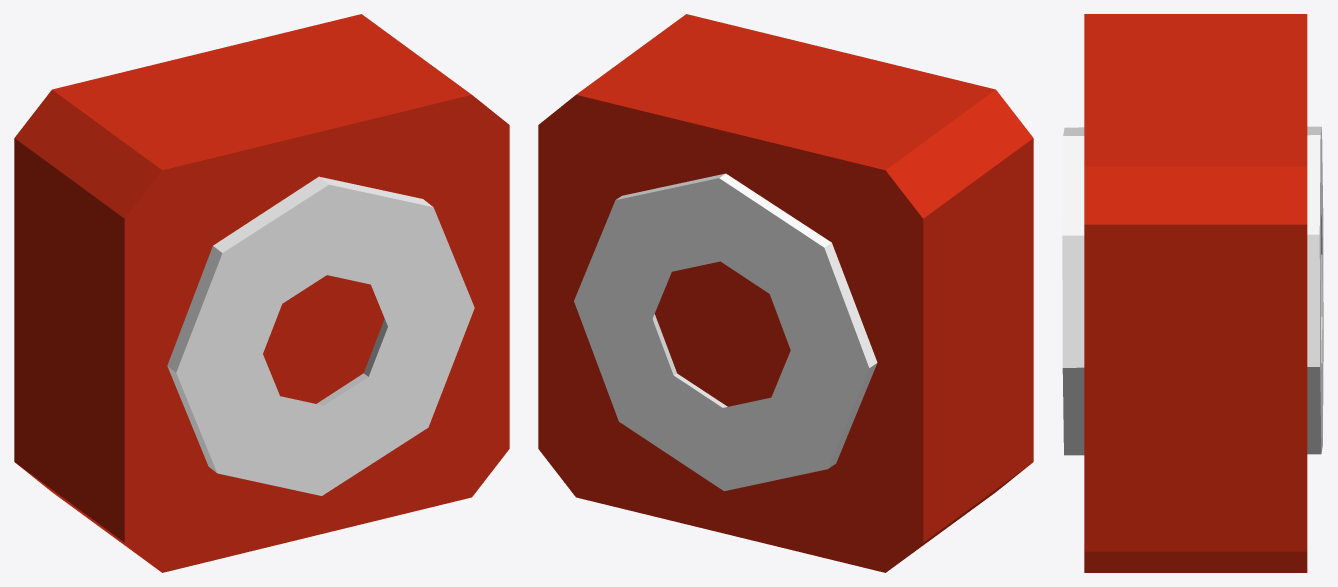
The model's file is other_services_except_public_administration.gltf.
3 views of the same model, side by side, from view 1: azimuth 30°, elevation 25°; view 2: azimuth 150°, elevation 25°; view 3: azimuth 270°, elevation 25° (orthographic).
Visible parts, largest first — view 1: Other Services (Except Public Administration); view 2: Other Services (Except Public Administration); view 3: Other Services (Except Public Administration).
Boxes of the visible parts, x1,y1,x2,y2 form: Other Services (Except Public Administration): (14,14,509,572); Other Services (Except Public Administration): (538,14,1033,572); Other Services (Except Public Administration): (1062,14,1323,572).
Bounding box in the file's own units: 1.13 × 1.13 × 0.6594.
1 material, 1 textured.
